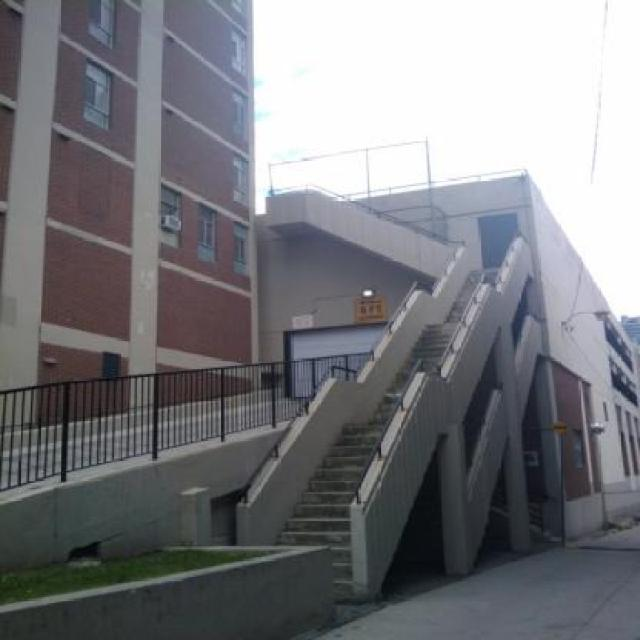stair: (271, 265, 511, 600)
